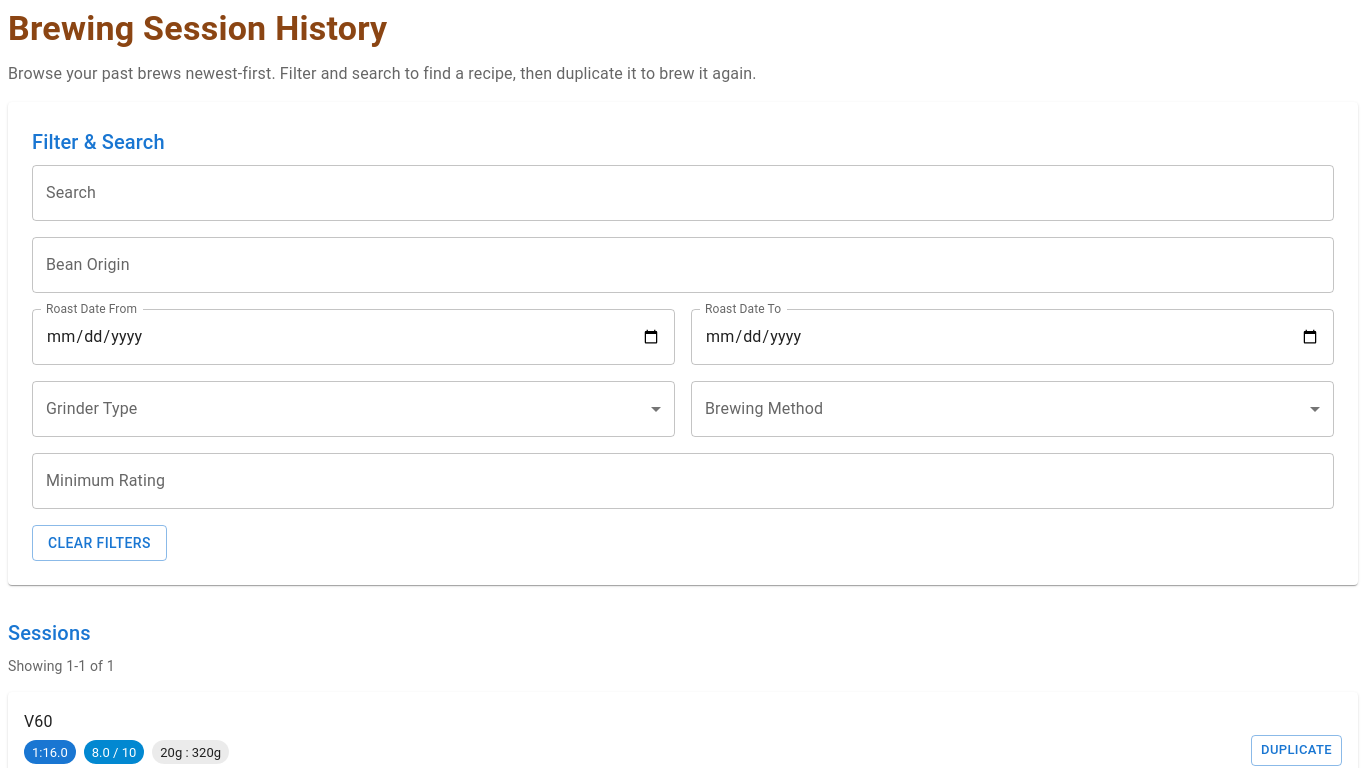
SessionHistory › duplicates a session and reloads with a success notice
The image size is (1366, 768).
Expected: the heading "V60" is shown, [24,712,53,731]
What coordinates should you click on to do the following:
click the button "Duplicate"
I would click on:
 (1296, 750)
Its box is [1251,735,1342,766].
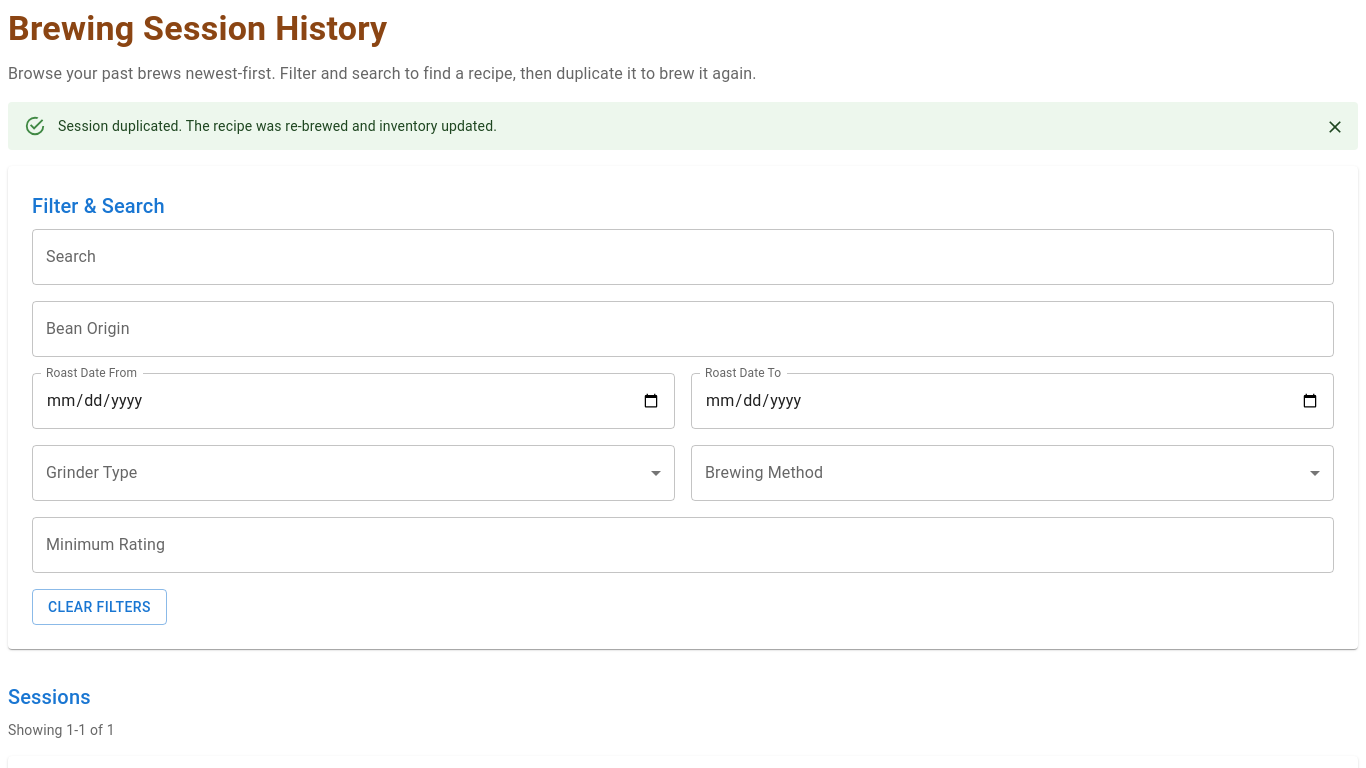
Result: the text "Session duplicated. The recipe was re-brewed" is shown at [58,118,497,134]
